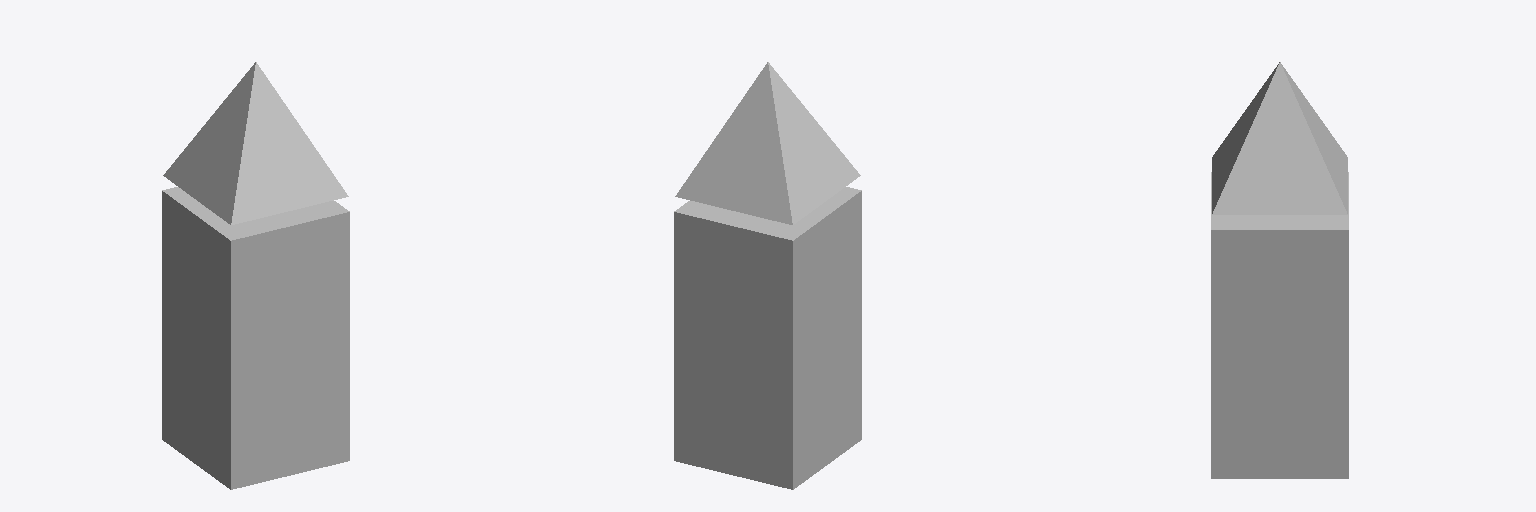
The model's file is Enemyagain.obj.
3 views of the same model, side by side, from view 1: azimuth 30°, elevation 25°; view 2: azimuth 150°, elevation 25°; view 3: azimuth 270°, elevation 25° (orthographic).
Visible parts, largest first — view 1: Enemy_Cube; view 2: Enemy_Cube; view 3: Enemy_Cube.
Boxes of the visible parts, x1=… form: Enemy_Cube: x1=162, y1=62, x2=349, y2=489; Enemy_Cube: x1=674, y1=62, x2=861, y2=489; Enemy_Cube: x1=1211, y1=62, x2=1348, y2=478.
Bounding box in the file's own units: 0.5 × 1.56 × 0.5.